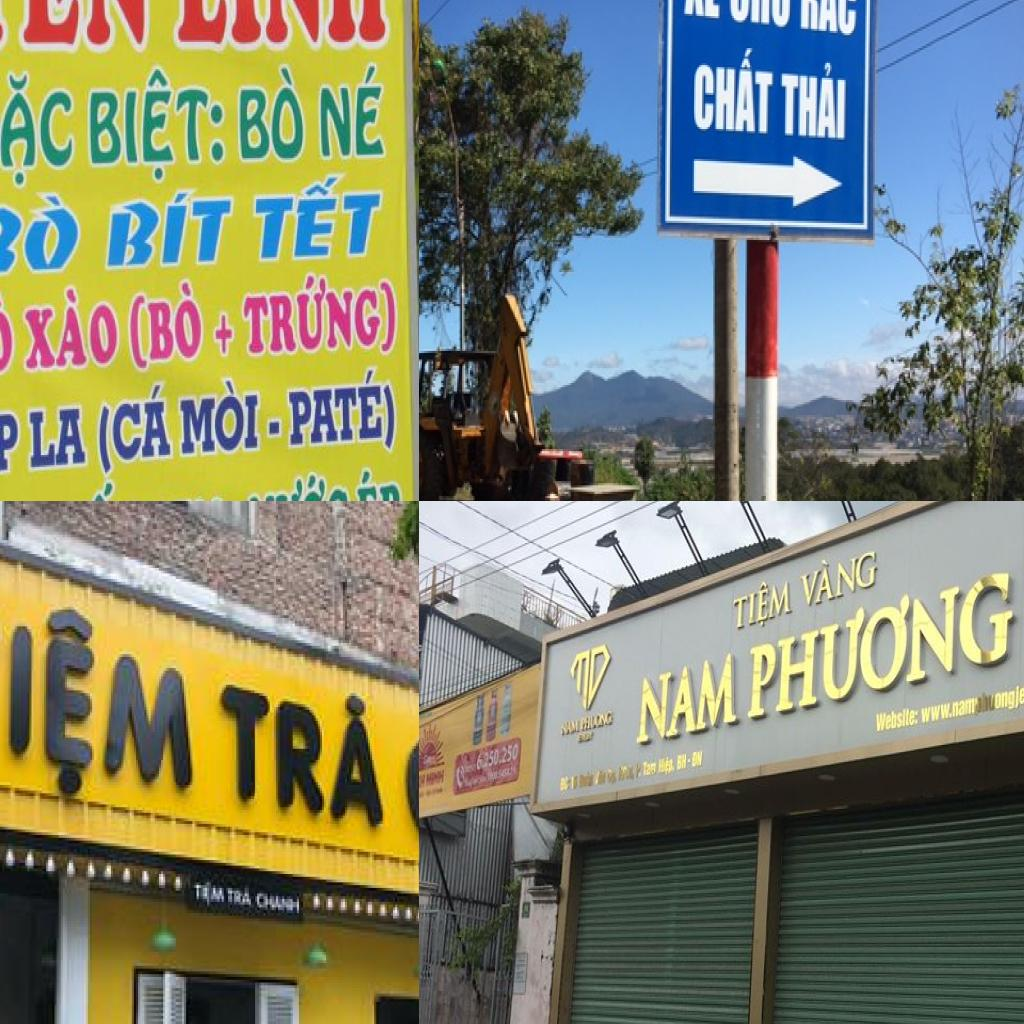text: (0, 570, 205, 826), (744, 563, 1018, 721), (211, 654, 389, 838), (86, 64, 228, 189), (241, 267, 403, 368), (247, 170, 388, 264), (286, 364, 400, 464), (104, 187, 239, 271), (632, 650, 742, 748), (171, 0, 388, 49), (0, 67, 77, 193), (20, 283, 122, 373), (692, 42, 776, 140), (96, 380, 175, 482), (126, 278, 208, 373), (0, 190, 82, 279), (317, 61, 388, 163), (237, 62, 307, 165), (178, 376, 262, 458), (777, 57, 848, 144), (920, 671, 1024, 728), (795, 543, 879, 611), (25, 404, 91, 474), (732, 574, 794, 634), (247, 467, 352, 501), (796, 0, 858, 41), (729, 0, 799, 33), (0, 384, 21, 482), (353, 465, 404, 501), (0, 287, 19, 378), (212, 310, 238, 363), (875, 705, 920, 735), (257, 890, 305, 918), (60, 478, 117, 501), (188, 880, 228, 908), (476, 744, 519, 770), (681, 0, 722, 22), (226, 885, 255, 913), (582, 710, 614, 732), (559, 718, 580, 736), (427, 768, 445, 788)
